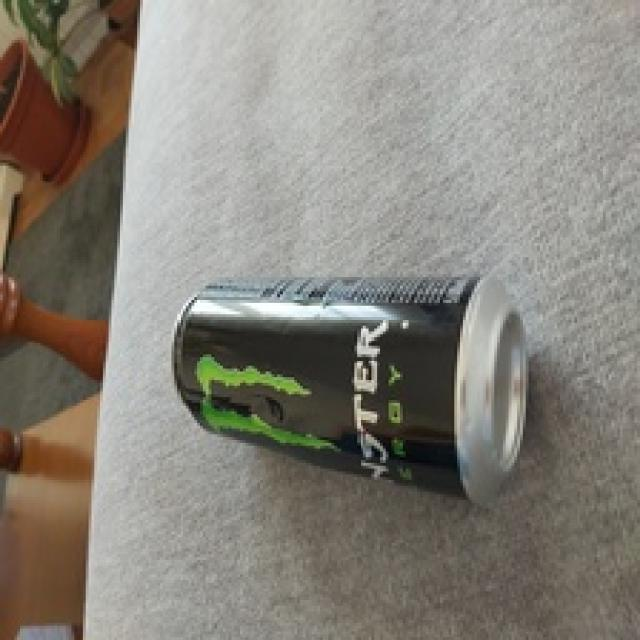recyclable: (172, 274, 526, 504)
